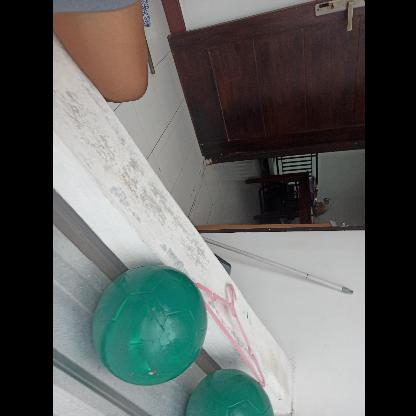green_ball: (90, 264, 210, 386)
